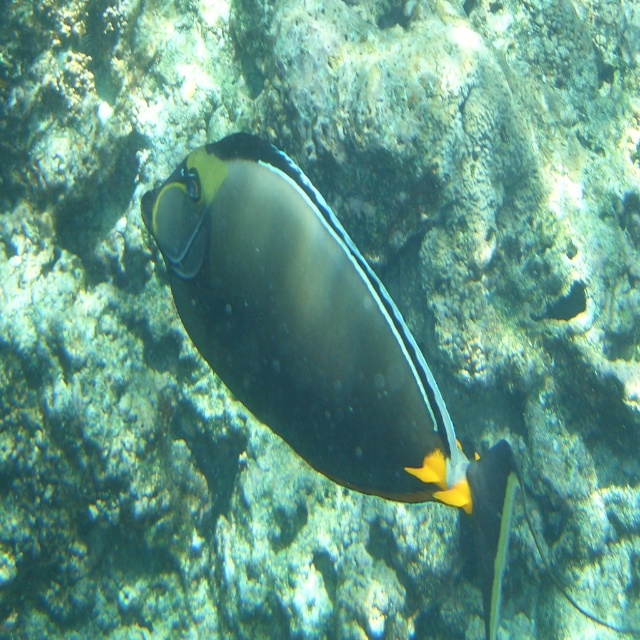Fish: (139, 131, 624, 639)
